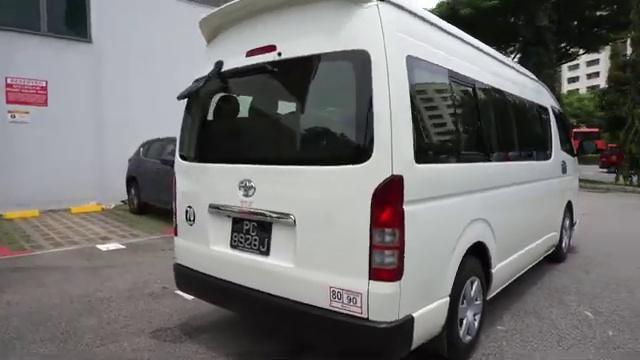Van: (169, 0, 590, 338)
